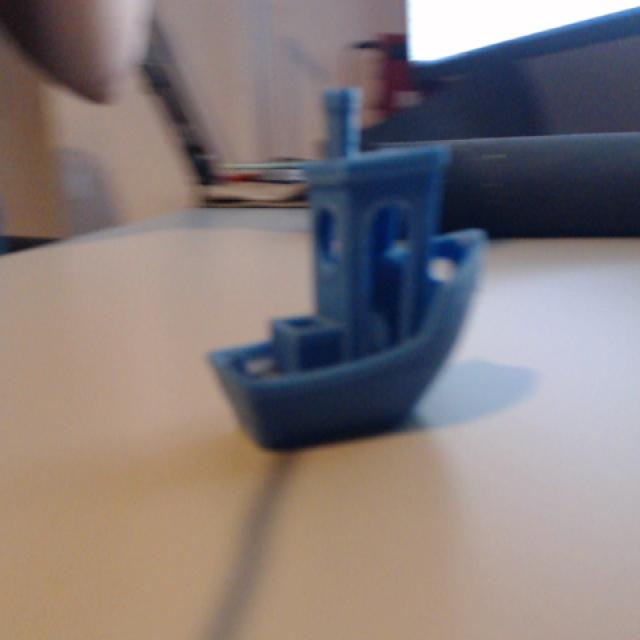benchy: (204, 85, 489, 452)
